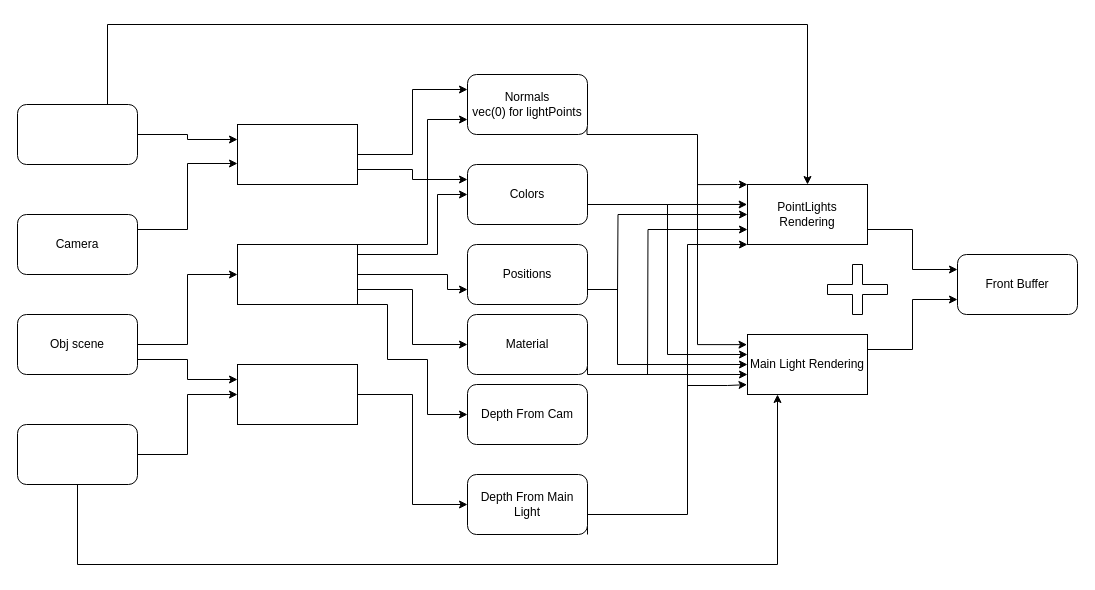
Image size: 1095x590. Some labels were removed from this diagram. Each missing label, with the centre of its shape:
"Forward Rendering from Camera" goes at [297,274].
"Forward Rendering from main light" goes at [297,394].
"Main Light" goes at [77,454].
"PointLights" goes at [77,134].
"Tesselation" goes at [297,154].
